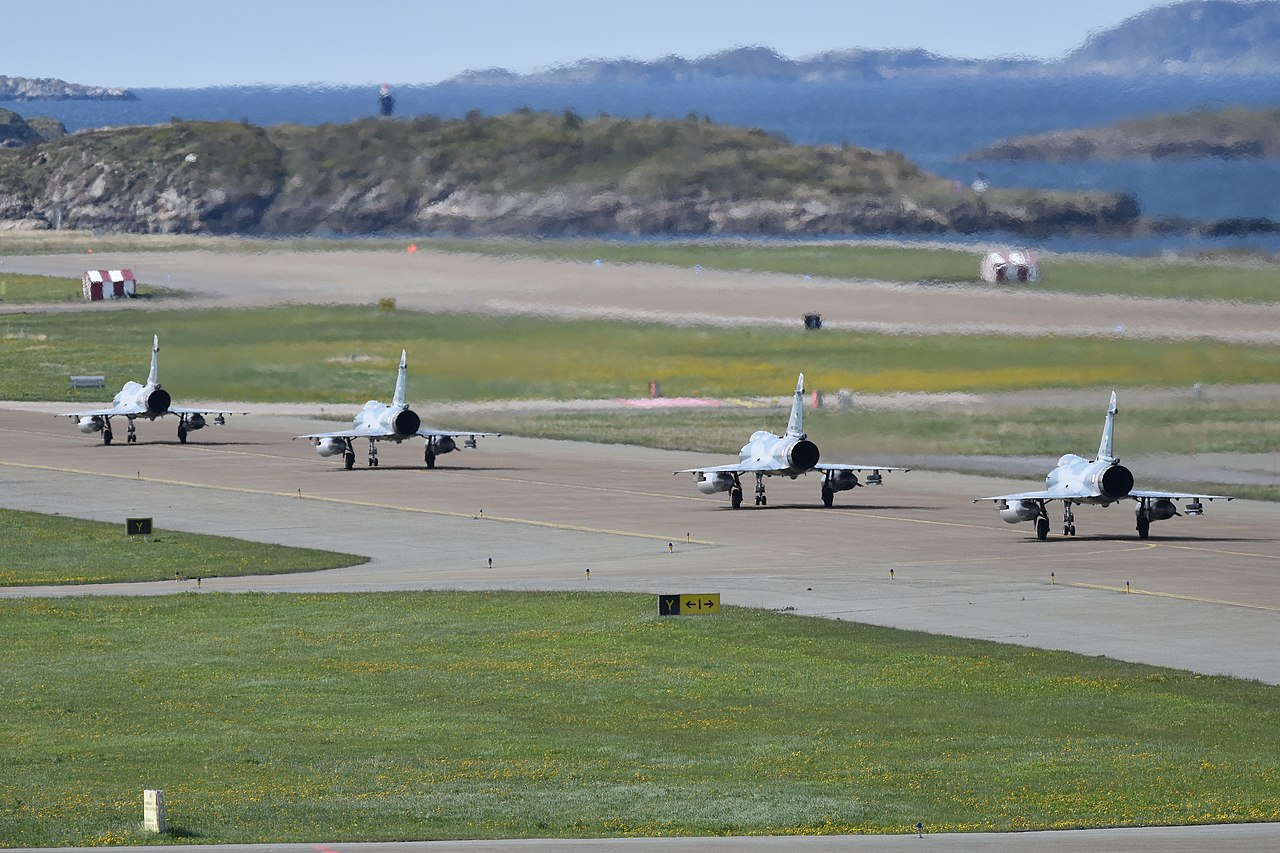Mirage2000: (972, 389, 1235, 539), (672, 372, 913, 508), (291, 347, 503, 469), (52, 334, 252, 445)
